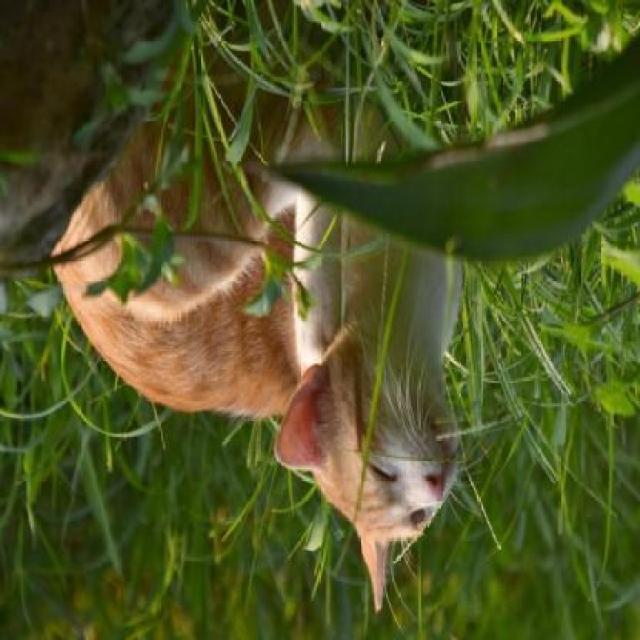cat: (28, 107, 500, 611)
